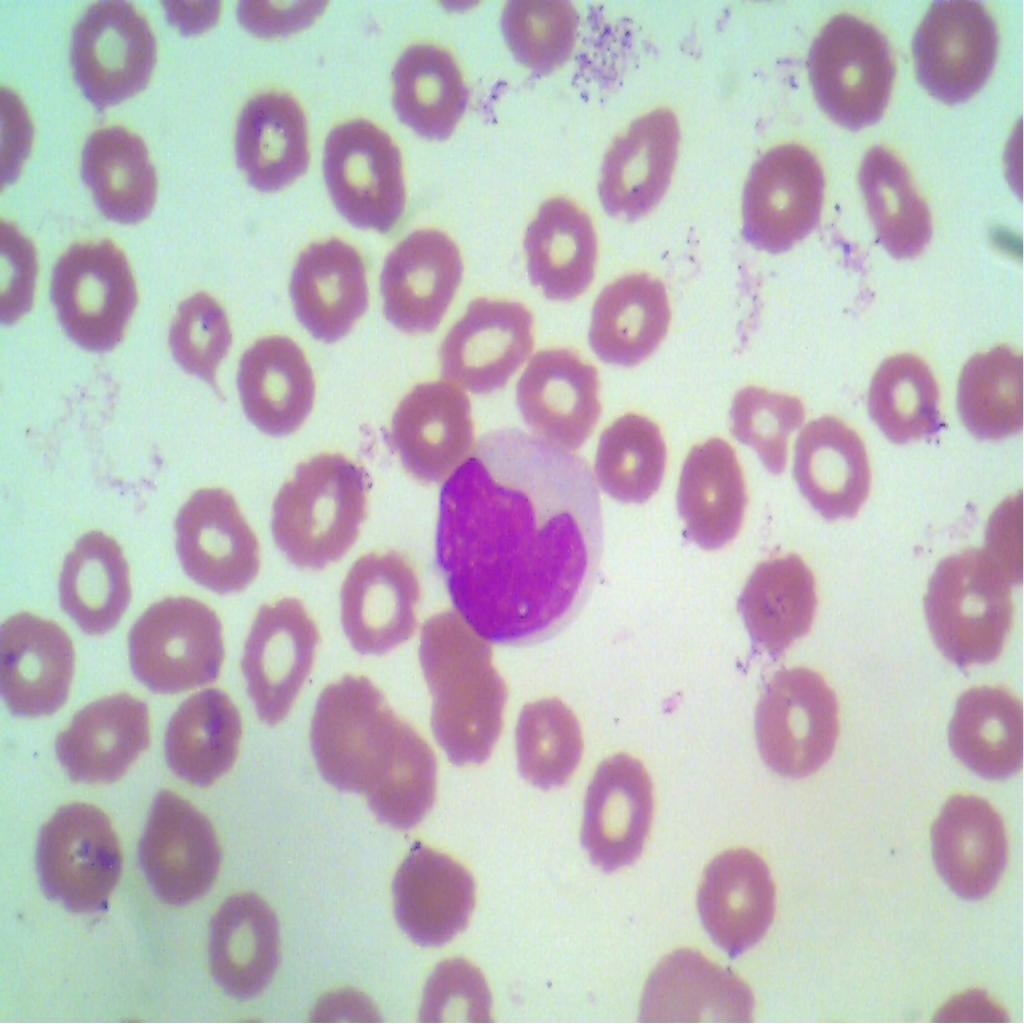Eritrosit: (29, 787, 126, 931), (798, 14, 908, 139), (264, 444, 370, 570), (591, 81, 684, 224), (844, 138, 941, 275), (926, 544, 1024, 675), (130, 784, 230, 911), (572, 748, 666, 882), (326, 531, 423, 660), (164, 485, 268, 605), (46, 231, 138, 365), (926, 770, 1023, 897), (506, 175, 602, 302), (315, 124, 415, 241), (43, 687, 156, 790), (61, 0, 157, 117), (223, 85, 319, 202), (273, 222, 366, 341), (74, 121, 168, 238), (751, 664, 844, 782), (304, 662, 390, 788), (0, 595, 88, 717), (49, 527, 139, 645), (731, 135, 819, 255), (375, 211, 458, 338), (439, 271, 528, 388), (663, 428, 744, 554), (379, 368, 471, 478), (904, 0, 994, 112), (196, 890, 286, 1000), (939, 674, 1023, 791), (388, 26, 468, 148), (588, 264, 673, 378), (861, 334, 946, 447), (694, 835, 772, 957), (352, 726, 438, 836), (242, 591, 316, 717), (510, 348, 606, 445), (130, 594, 229, 687), (484, 0, 586, 89), (153, 282, 239, 387), (429, 665, 515, 770), (791, 425, 876, 530), (410, 598, 494, 702), (398, 838, 475, 948), (734, 551, 816, 654), (953, 331, 1023, 448), (726, 367, 804, 465), (233, 344, 313, 438), (509, 691, 586, 787), (159, 692, 243, 776), (593, 410, 661, 508)
Monosit: (424, 424, 608, 664)
